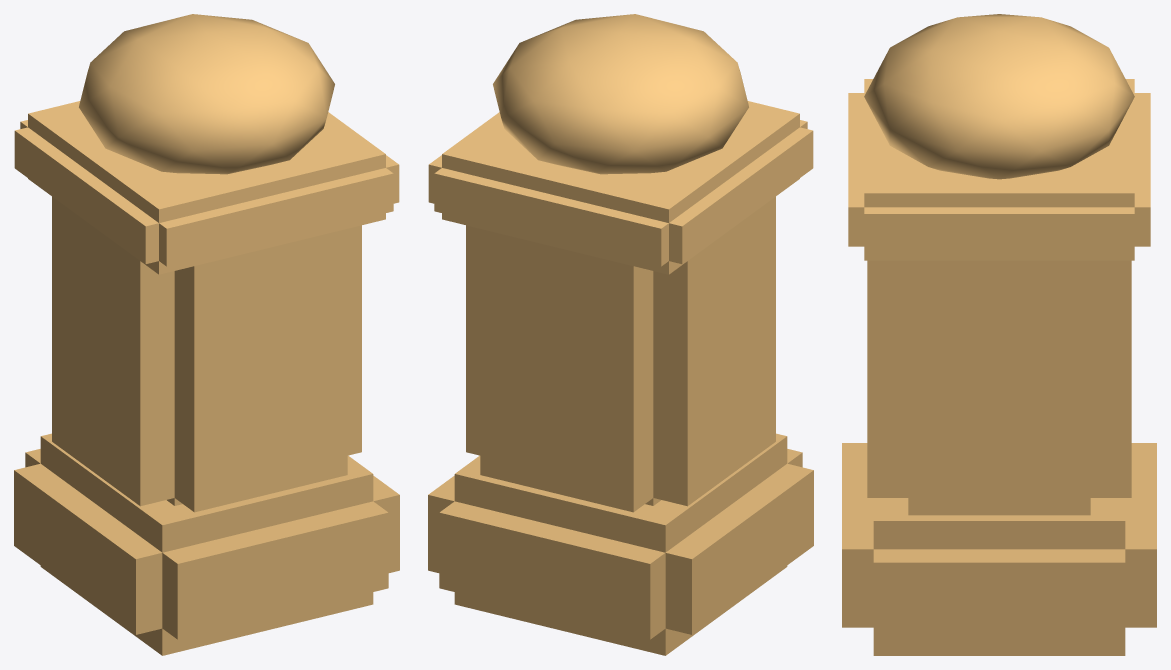
File: west-post-DsT5-tBw.glb
3 renders of one model, left to right at view 1: azimuth 30°, elevation 25°; view 2: azimuth 150°, elevation 25°; view 3: azimuth 270°, elevation 25°, orthographic. The views are drawn at different scales.
Visible parts, largest first — view 1: west-post; view 2: west-post; view 3: west-post.
Part boxes in pixels (box(x1,y1,x2,y2)): west-post: box(14, 14, 399, 655); west-post: box(428, 14, 813, 655); west-post: box(842, 14, 1156, 655).
Size of the model in its own units: 0.5 by 1 by 0.5.
